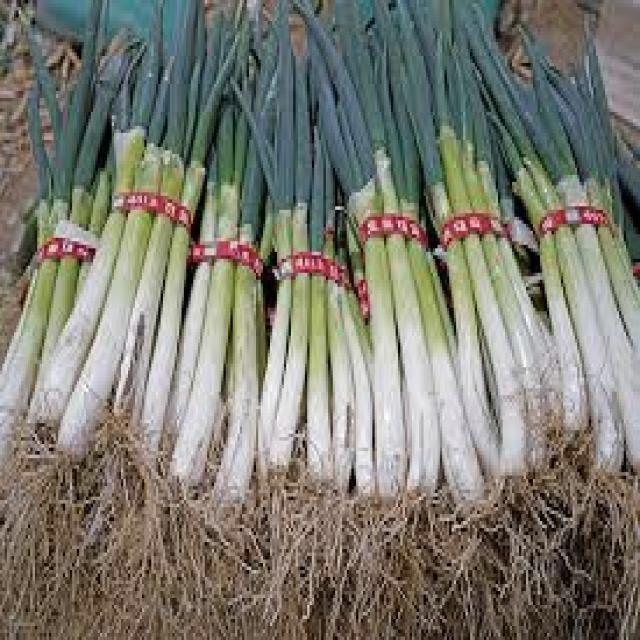green_onion: (4, 0, 225, 463), (312, 0, 497, 512), (471, 0, 640, 486), (238, 0, 379, 524)
